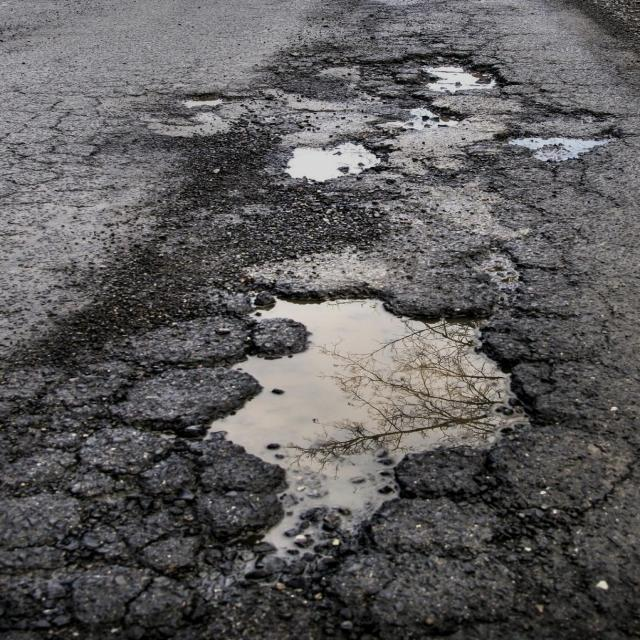road-pothole: (188, 275, 561, 575), (383, 46, 513, 104), (278, 129, 404, 181), (505, 126, 621, 165)
